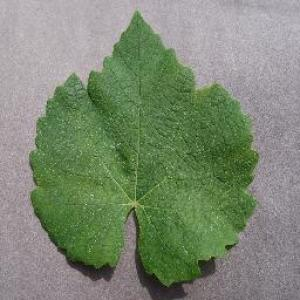Folha: (28, 8, 259, 288)
